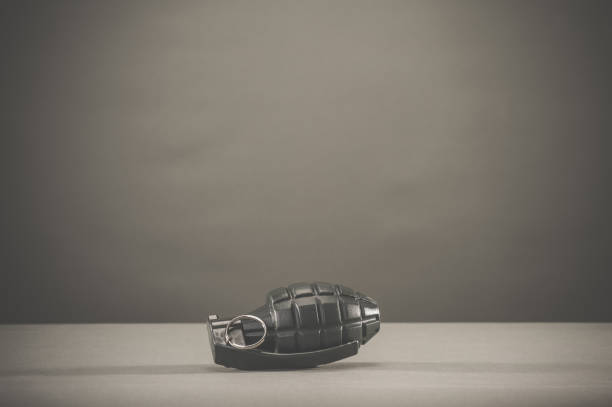e1: (206, 280, 383, 370)
